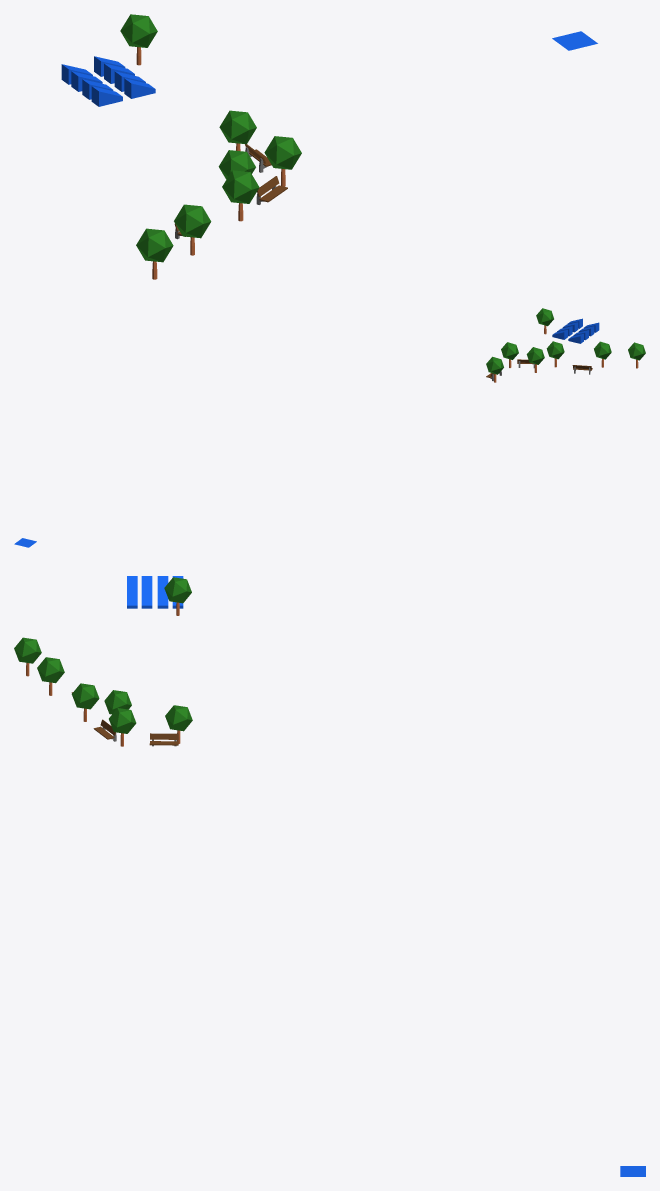
File: solution_16_green_roof.fbx
The picture shows the model from 3 angles, top to bottom: view 1: azimuth 30°, elevation 25°; view 2: azimuth 150°, elevation 25°; view 3: azimuth 270°, elevation 25°; orthographic projection. The views are drawn at different scales.
Parts seen in each view (by area): view 1: solution_16_green_roof; view 2: solution_16_green_roof; view 3: solution_16_green_roof.
Part boxes in pixels (left/top/right/bottom): solution_16_green_roof: left=61, top=14, right=597, bottom=279; solution_16_green_roof: left=14, top=308, right=645, bottom=547; solution_16_green_roof: left=14, top=576, right=645, bottom=1176.
Size of the model in its own units: 5748 by 2744 by 4900.
